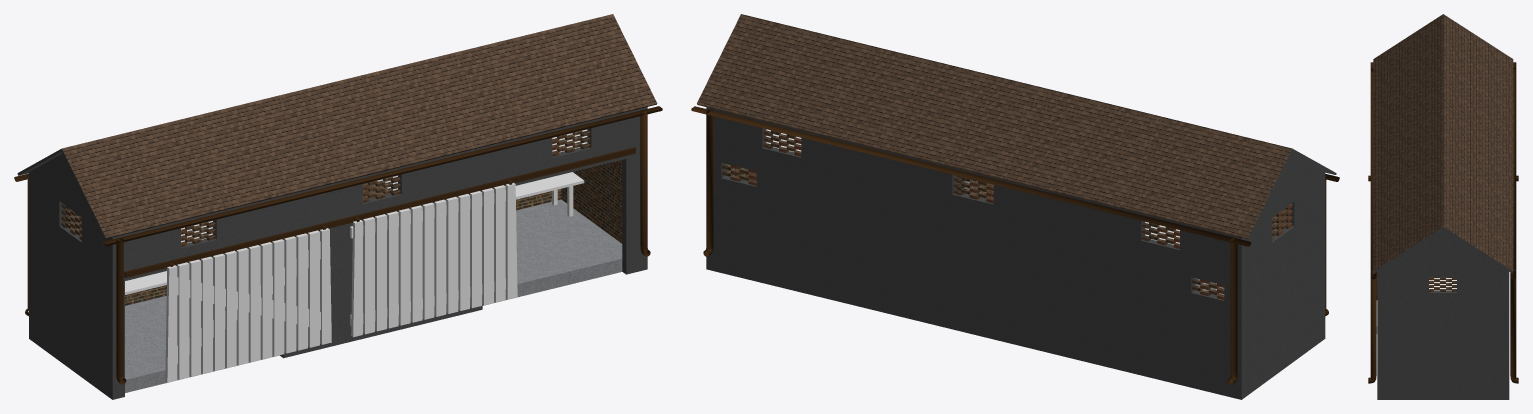
File: stodolaunity.fbx
3 renders of one model, left to right at view 1: azimuth 30°, elevation 25°; view 2: azimuth 150°, elevation 25°; view 3: azimuth 270°, elevation 25°, orthographic. The views are drawn at different scales.
Visible parts, largest first — view 1: barn_LOD00, brama_LOD00, brama.001_LOD00, table2_LOD00, table_LOD00; view 2: barn_LOD00; view 3: barn_LOD00.
Boxes of the visible parts, box(x1,y1,x2,y2) form: barn_LOD00: box(14, 14, 662, 399); brama_LOD00: box(350, 180, 517, 337); brama.001_LOD00: box(165, 225, 331, 382); table2_LOD00: box(515, 172, 584, 216); table_LOD00: box(125, 271, 166, 294); barn_LOD00: box(691, 14, 1339, 399); barn_LOD00: box(1368, 14, 1518, 399).
Size of what is drawn, in the model's own units: 1762 by 675 by 522.
